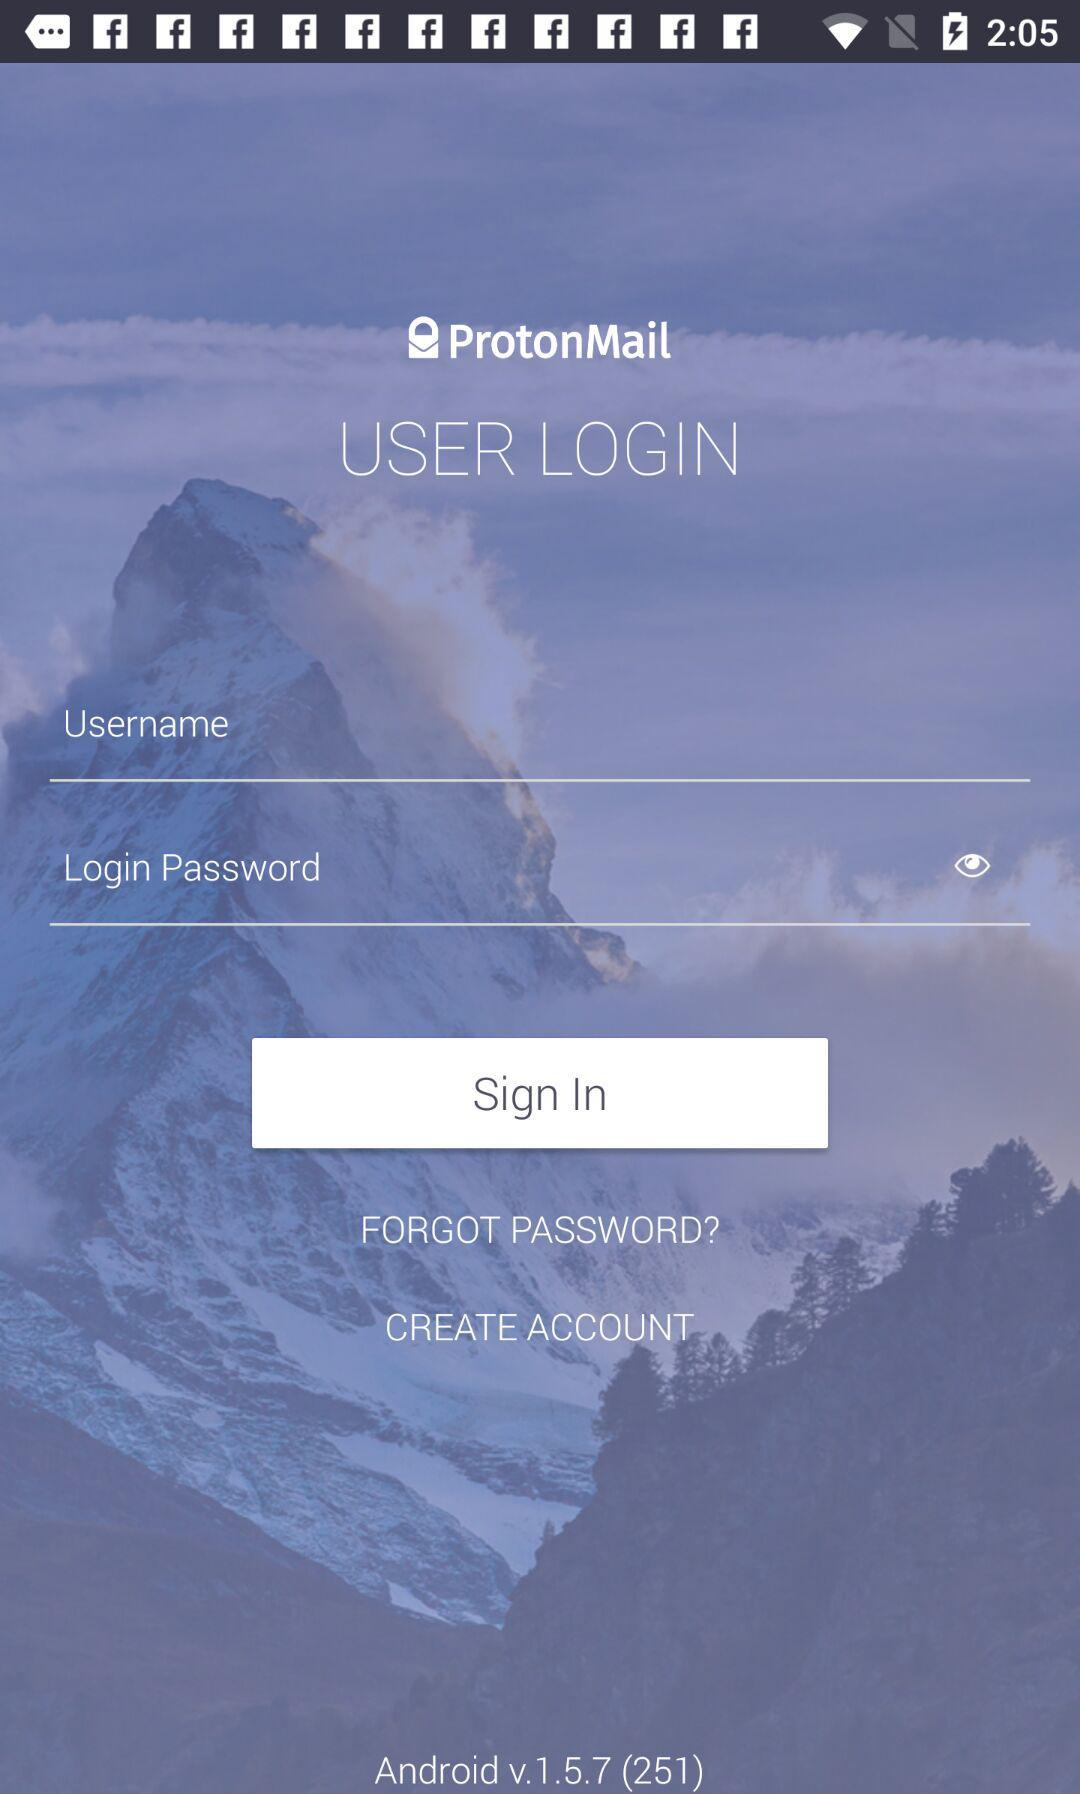BackgroundImage: (1, 65, 1080, 1794)
EditText: (49, 851, 1031, 926), (49, 709, 1031, 783)
Icon: (407, 317, 439, 361), (953, 853, 992, 879)
Text: (342, 422, 737, 478), (375, 1753, 705, 1791), (363, 1216, 720, 1246), (67, 851, 322, 889), (450, 320, 674, 361), (386, 1313, 694, 1342), (67, 709, 229, 739)
TextButton: (252, 1038, 829, 1149)
UpperTaskBar: (1, 1, 1080, 64)
